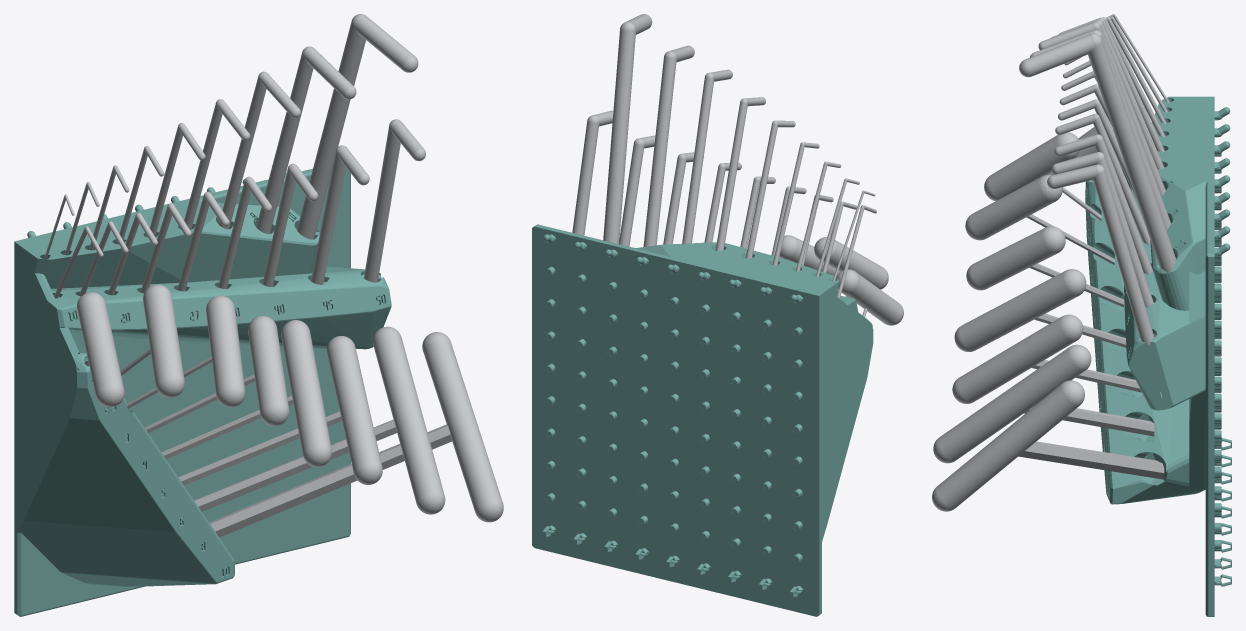
The model's file is loaded.glb.
3 views of the same model, side by side, from view 1: azimuth 30°, elevation 25°; view 2: azimuth 150°, elevation 25°; view 3: azimuth 270°, elevation 25° (orthographic). The views are drawn at different scales.
Parts seen in each view (by area): view 1: holder, reference_envelope; view 2: holder, reference_envelope; view 3: reference_envelope, holder.
Part boxes in pixels (bbox=[...]): holder: bbox=[14, 167, 391, 616]; reference_envelope: bbox=[44, 14, 503, 537]; holder: bbox=[532, 224, 873, 616]; reference_envelope: bbox=[572, 14, 903, 325]; reference_envelope: bbox=[932, 14, 1176, 511]; holder: bbox=[1085, 96, 1231, 616].
Bounding box in the file's own units: 0.2606 × 0.3897 × 0.1889.
